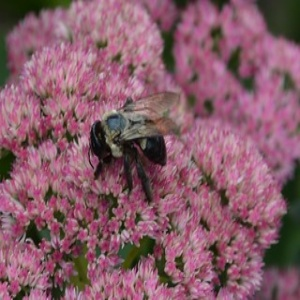bee: (84, 89, 185, 214)
